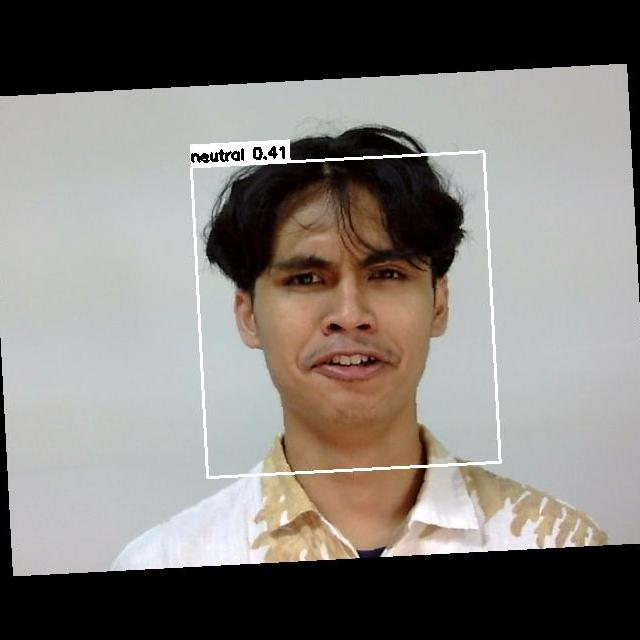Fear: (239, 241, 458, 419)
